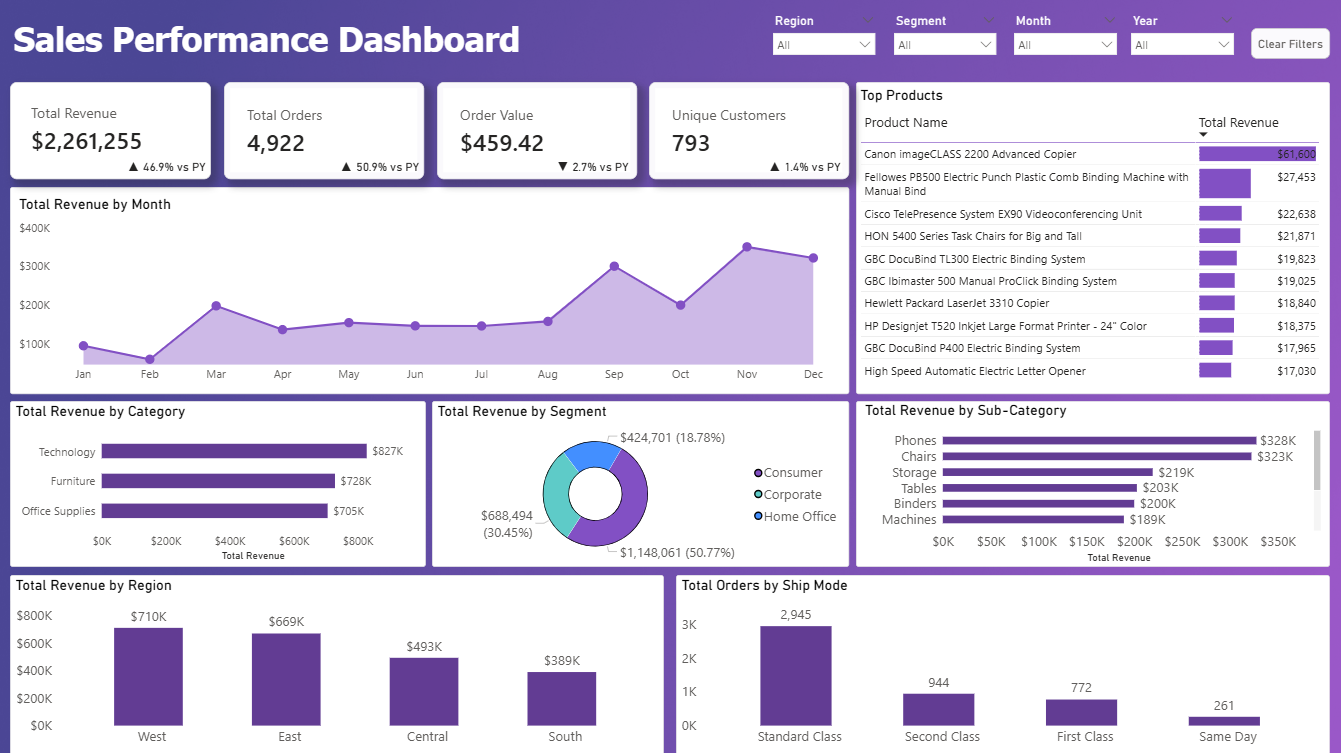

What the dashboard file says about the page in this screenshot:
{"tool":"powerbi","page":{"name":"Executive Dashboard","canvas":[1920,1080],"ordinal":0},"visuals":[{"type":"tableEx","title":"Top Products","fields":{"Values":["dim_product.product_name","_Measures.Total Revenue"]},"box":[1225.7,118.6,677.1,445.7],"z":0},{"type":"areaChart","title":"Total Revenue by Month","fields":{"Category":["dim_date.month_name"],"Y":["_Measures.Total Revenue"]},"box":[17.1,268.6,1198.6,295.7],"z":1000},{"type":"barChart","title":"Total Revenue by Category","fields":{"Y":["_Measures.Total Revenue"],"Category":["dim_product.category"]},"box":[17.1,574.3,594.3,237.1],"z":2000},{"type":"barChart","fields":{"Category":["dim_product.sub_category"],"Y":["_Measures.Total Revenue"]},"box":[1225.7,574.3,677.1,237.1],"z":3000},{"type":"donutChart","title":"Total Revenue by Segment","fields":{"Category":["dim_customer.segment"],"Y":["_Measures.Total Revenue"]},"box":[620,574.3,595.7,237.1],"z":4000},{"type":"clusteredColumnChart","title":"Total Revenue by Region","fields":{"Y":["_Measures.Total Revenue"],"Category":["dim_geography.region"]},"box":[17.1,822.9,934.3,257.1],"z":5000},{"type":"columnChart","title":"Total Orders by Ship Mode","fields":{"Category":["fact_sales.ship_mode"],"Y":["_Measures.Total Orders"]},"box":[968.6,822.9,934.3,257.1],"z":6000},{"type":"slicer","title":"Region","fields":{"Values":["dim_geography.region"]},"box":[1097.6,15.7,165.7,74.3],"z":7000},{"type":"cardVisual","title":"Avg Order Value","fields":{"Data":["_Measures.Avg Order Value"]},"box":[627.1,118.6,285.7,138.6],"z":8000},{"type":"slicer","title":"Region","fields":{"Values":["dim_customer.segment"]},"box":[1270.4,15.7,165.7,74.3],"z":9000},{"type":"cardVisual","fields":{"Data":["_Measures.Unique Customers"]},"box":[930,118.6,285.7,138.6],"z":10000},{"type":"cardVisual","fields":{"Data":["_Measures.Total Revenue"]},"box":[17.1,118.6,287.1,138.6],"z":11000},{"type":"slicer","title":"Region","fields":{"Values":["dim_date.month_name"]},"box":[1441.9,15.7,167.1,74.3],"z":12000},{"type":"cardVisual","fields":{"Data":["_Measures.Total Orders"]},"box":[322.9,118.6,285.7,138.6],"z":13000},{"type":"slicer","title":"Region","fields":{"Values":["dim_date.year"]},"box":[1608.6,15.7,167.1,74.3],"z":14000},{"type":"card","fields":{"Values":["_Measures.MoM Text"]},"box":[177.1,224.3,127.1,32.9],"z":15000},{"type":"textbox","box":[17.1,22.9,752.9,74.3],"z":16000},{"type":"actionButton","box":[1790,41.4,112.9,44.3],"z":17000},{"type":"card","fields":{"Values":["_Measures.PY Total Orders"]},"box":[481.4,224.3,127.1,32.9],"z":18000},{"type":"card","fields":{"Values":["_Measures.PY Order Value"]},"box":[785.7,224.3,127.1,32.9],"z":19000},{"type":"card","fields":{"Values":["_Measures.PY Total Customers"]},"box":[1088.6,224.3,127.1,32.9],"z":20000}]}

Visuals, with their boxes in screenshot pixels (x1, y1, x2, y2), scaled from the page's 1920x1080 canvas onto the 1341x753 screenshot:
"Top Products" tableEx: x1=856, y1=83, x2=1329, y2=393
"Total Revenue by Month" areaChart: x1=12, y1=187, x2=849, y2=393
"Total Revenue by Category" barChart: x1=12, y1=400, x2=427, y2=566
barChart - dim_product.sub_category x _Measures.Total Revenue: x1=856, y1=400, x2=1329, y2=566
"Total Revenue by Segment" donutChart: x1=433, y1=400, x2=849, y2=566
"Total Revenue by Region" clusteredColumnChart: x1=12, y1=574, x2=664, y2=752
"Total Orders by Ship Mode" columnChart: x1=677, y1=574, x2=1329, y2=752
"Region" slicer: x1=767, y1=11, x2=882, y2=63
"Avg Order Value" cardVisual: x1=438, y1=83, x2=638, y2=179
"Region" slicer: x1=887, y1=11, x2=1003, y2=63
cardVisual - _Measures.Unique Customers: x1=650, y1=83, x2=849, y2=179
cardVisual - _Measures.Total Revenue: x1=12, y1=83, x2=212, y2=179
"Region" slicer: x1=1007, y1=11, x2=1124, y2=63
cardVisual - _Measures.Total Orders: x1=226, y1=83, x2=425, y2=179
"Region" slicer: x1=1124, y1=11, x2=1240, y2=63
card - _Measures.MoM Text: x1=124, y1=156, x2=212, y2=179
textbox: x1=12, y1=16, x2=538, y2=68
actionButton: x1=1250, y1=29, x2=1329, y2=60
card - _Measures.PY Total Orders: x1=336, y1=156, x2=425, y2=179
card - _Measures.PY Order Value: x1=549, y1=156, x2=638, y2=179
card - _Measures.PY Total Customers: x1=760, y1=156, x2=849, y2=179
